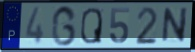2: (135, 5, 158, 46)
4: (25, 5, 47, 46)
5: (109, 7, 131, 45)
G: (50, 4, 77, 48)
N: (160, 6, 190, 45)
Q: (80, 6, 104, 45)
